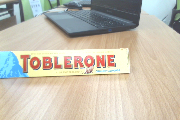Chocolate: (1, 45, 134, 84)
